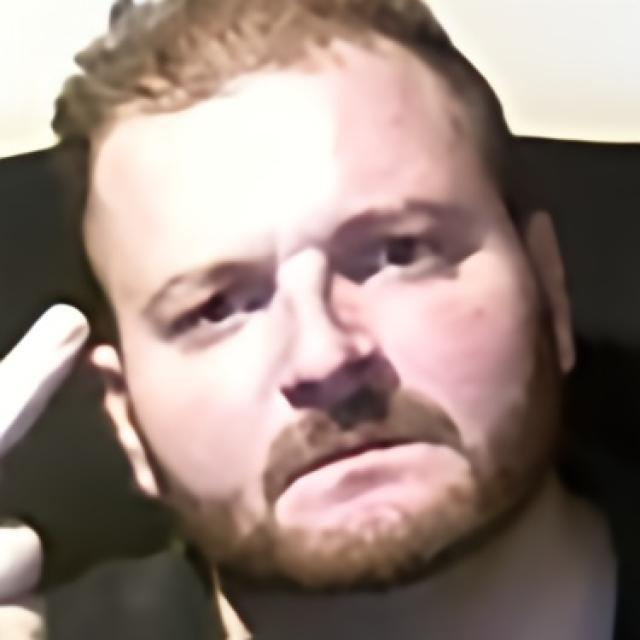neutral: (80, 46, 550, 590)
